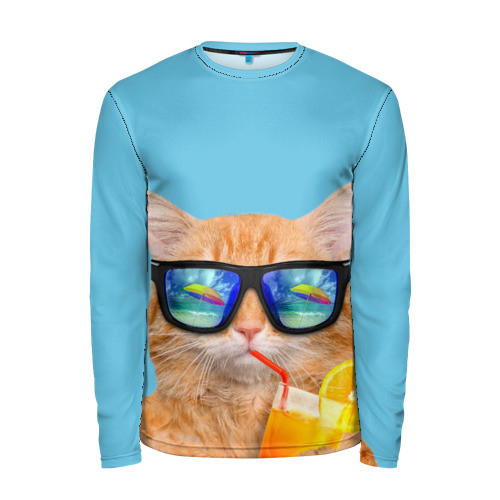cat: (141, 176, 363, 384)
